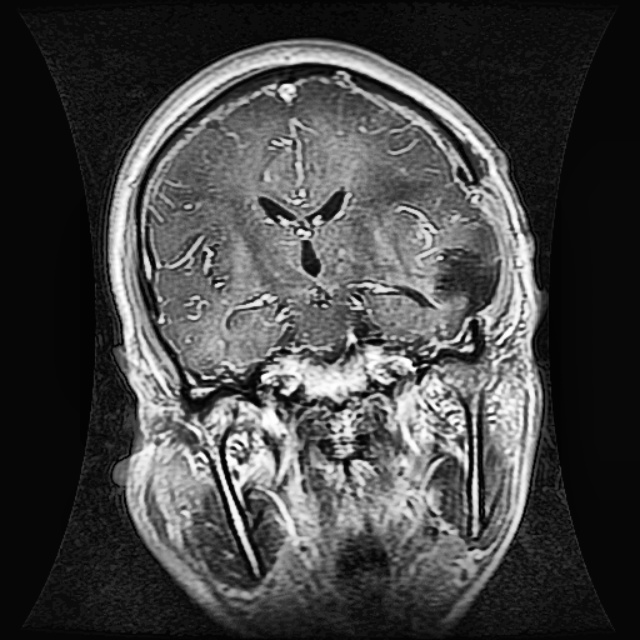Glioma: (427, 238, 500, 315)
